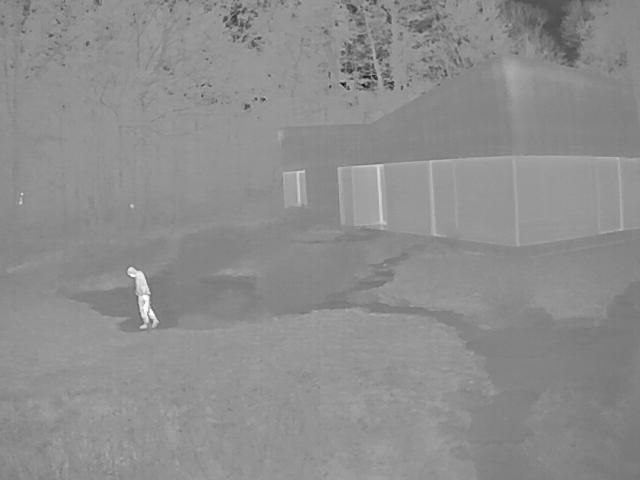person: (128, 267, 162, 328)
